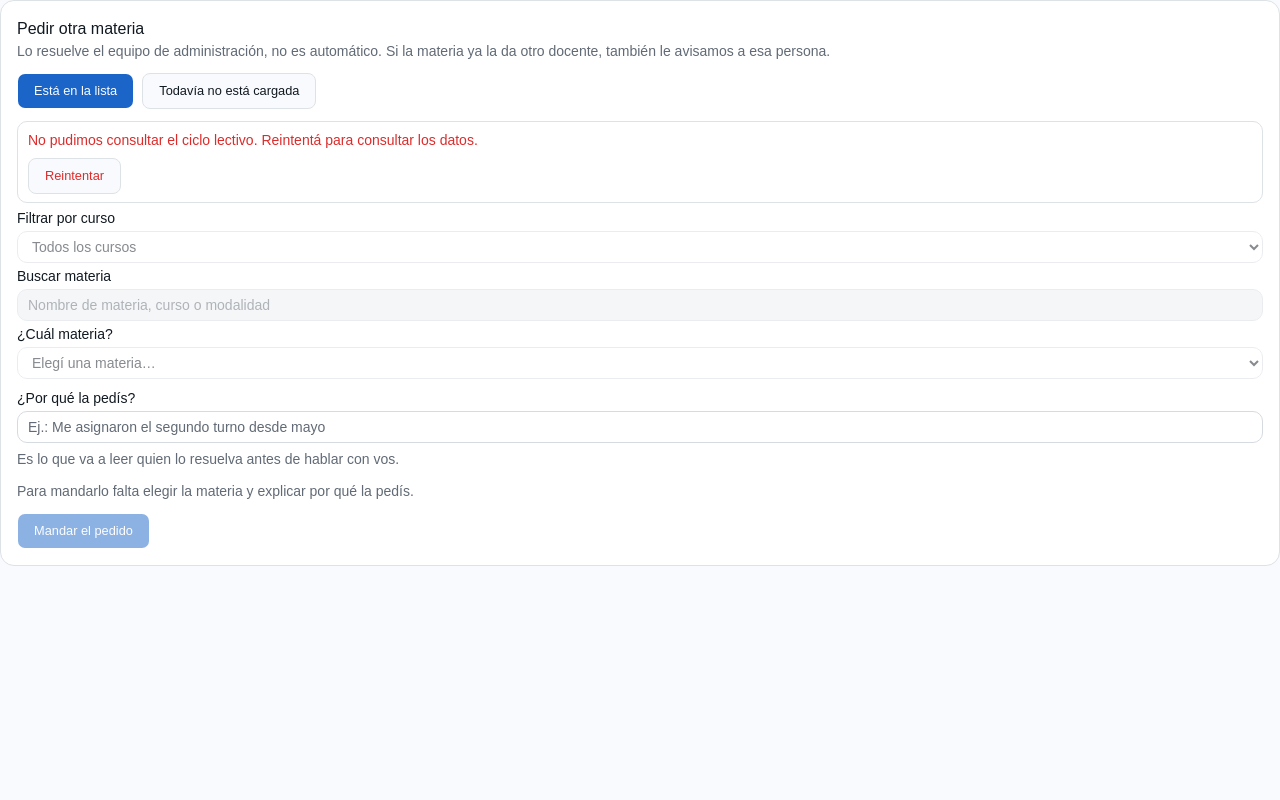
it: PedirMateria: consulta del catálogo › explica el fallo de el ciclo lectivo y permite reintentar conservando el motivo
The image size is (1280, 800).
Expected: the message shows "No pudimos consultar el ciclo lectivo.", x1=28 y1=132 x2=258 y2=148
Expected: the dropdown labelled "¿Cuál materia?" is disabled, x1=17 y1=347 x2=1263 y2=379
In the field labelled "¿Por qué la pedís?": [640, 427] box x1=17 y1=411 x2=1263 y2=443, type "Me asignaron el curso"
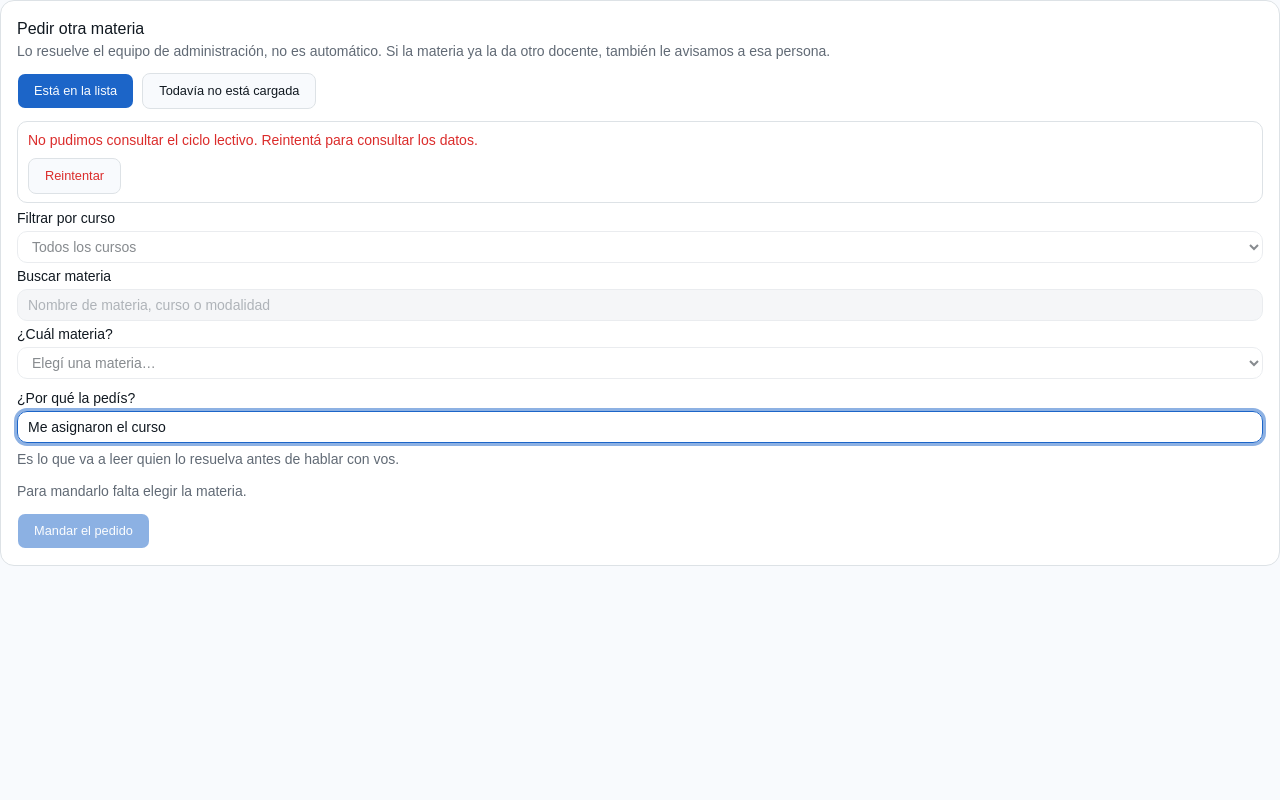
Expected: the button "Mandar el pedido" is disabled, x1=17 y1=513 x2=150 y2=549
Click the button "Reintentar": [74, 176] box x1=28 y1=158 x2=121 y2=194
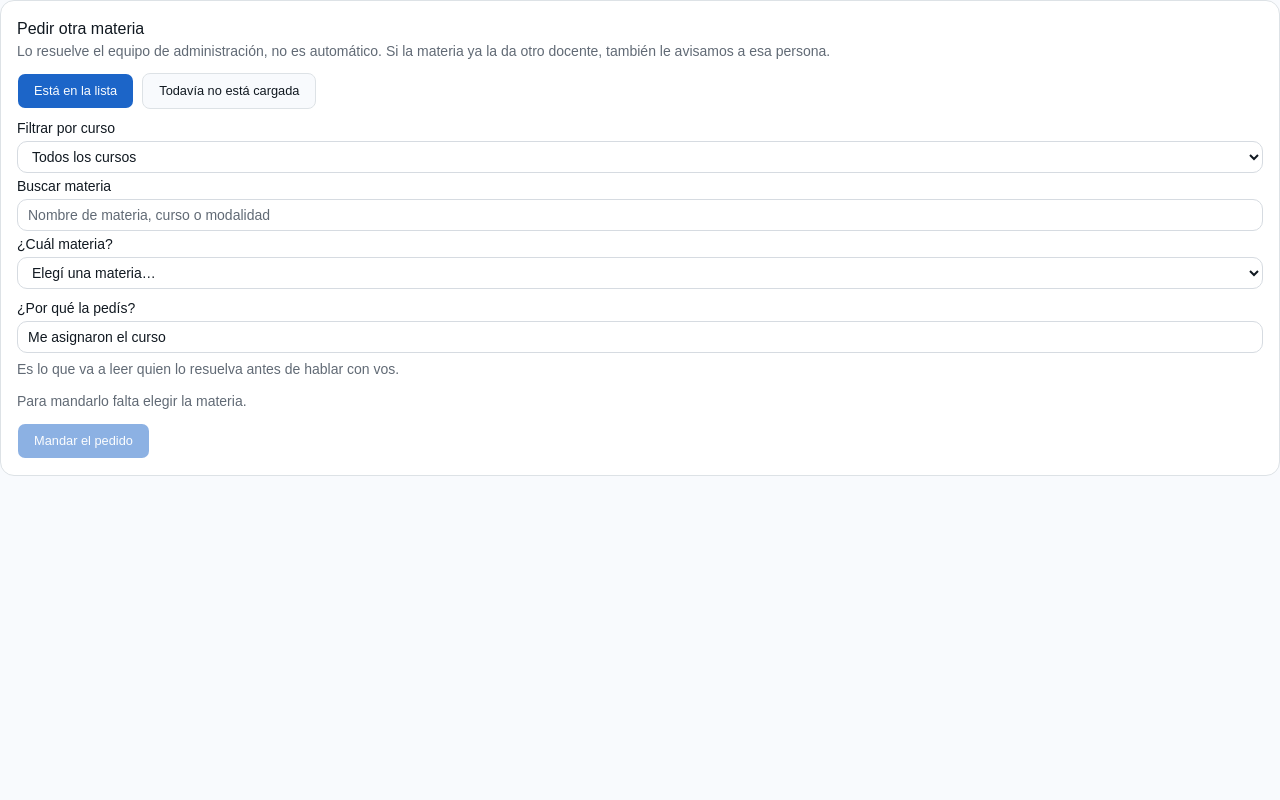
Select "TIC" in the dropdown labelled "¿Cuál materia?": [640, 273] box x1=17 y1=257 x2=1263 y2=289
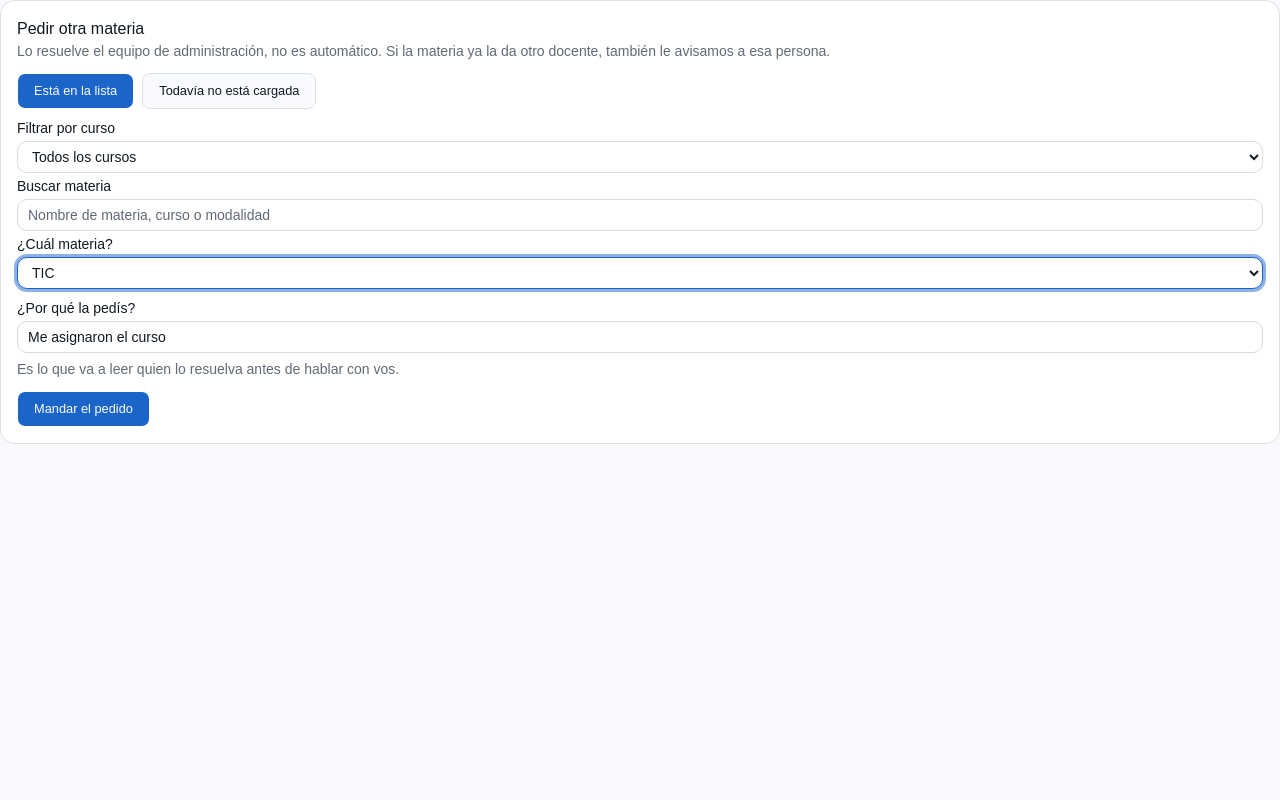
Result: the button "Mandar el pedido" is enabled at x1=17 y1=391 x2=150 y2=427
